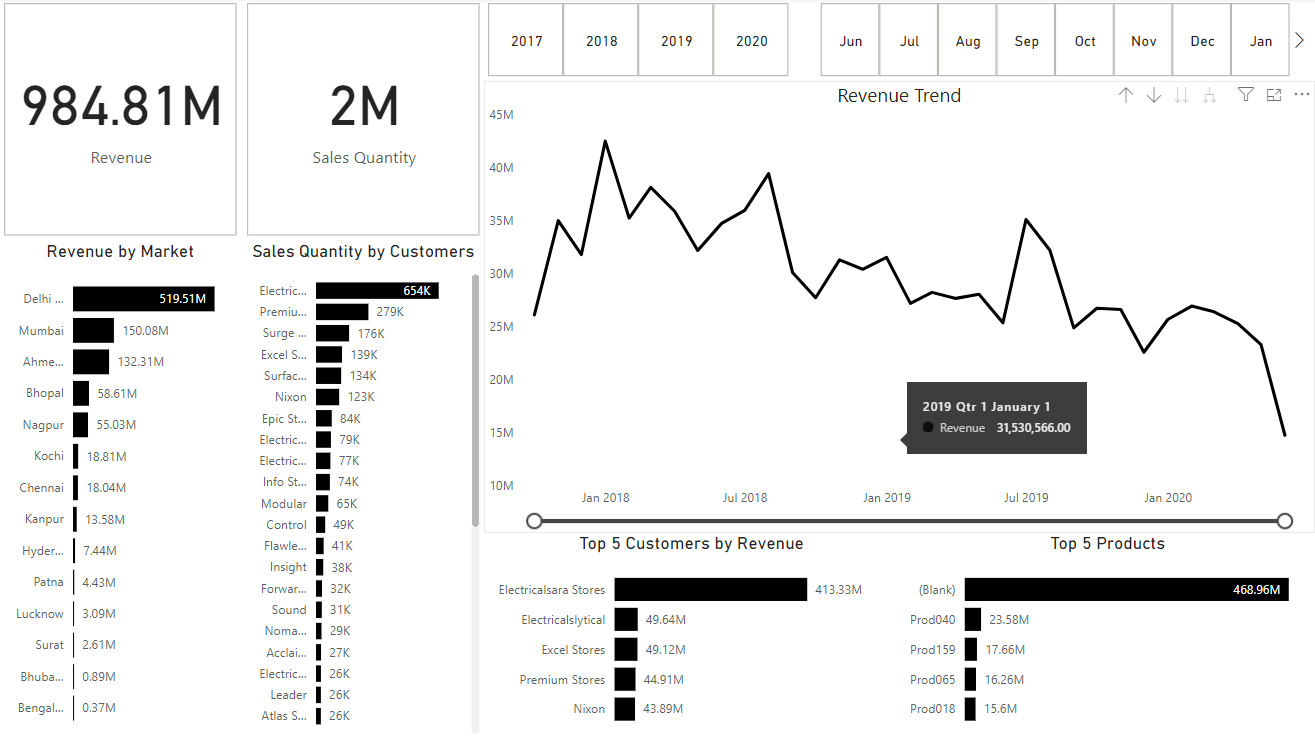

What the dashboard file says about the page in this screenshot:
{"tool":"powerbi","page":{"name":"Page 1","canvas":[1280,720],"ordinal":0},"visuals":[{"type":"cardVisual","fields":{"Data":["BaseMeasures.Revenue"]},"box":[0,0,236,236],"z":0},{"type":"barChart","title":"Revenue by Market","fields":{"Y":["BaseMeasures.Revenue"],"Category":["sales markets.markets_name"]},"box":[0,236,236,484],"z":1000},{"type":"cardVisual","fields":{"Data":["BaseMeasures.Sales Quantity"]},"box":[236,0,236,236],"z":2000},{"type":"barChart","title":"Sales Quantity by Customers","fields":{"Y":["BaseMeasures.Sales Quantity"],"Category":["sales customers.custmer_name"]},"box":[236,236,236,484],"z":3000},{"type":"advancedSlicerVisual","fields":{"Values":["sales date.year"]},"box":[471,0,303,81],"z":4000},{"type":"advancedSlicerVisual","fields":{"Values":["sales date.cy_date"]},"box":[774,0,506,81],"z":5000},{"type":"barChart","title":"Top 5 Customers by Revenue","fields":{"Y":["BaseMeasures.Revenue"],"Category":["sales customers.customer_name"]},"box":[472,520,404,200],"z":5001},{"type":"barChart","title":"Top 5 Products","fields":{"Y":["BaseMeasures.Revenue"],"Category":["sales products.product_code"]},"box":[876,520,404,200],"z":5002},{"type":"lineChart","title":"Revenue Trend","fields":{"Y":["BaseMeasures.Revenue"],"Category":["sales date.cy_date.Variation.Date Hierarchy.Year","sales date.cy_date.Variation.Date Hierarchy.Quarter","sales date.cy_date.Variation.Date Hierarchy.Month","sales date.cy_date.Variation.Date Hierarchy.Day"]},"box":[472,81,808,439],"z":5003}]}

Visuals, with their boxes in screenshot pixels (x1, y1, x2, y2), scaled from the page's 1280x720 canvas onto the 1315x738 screenshot:
cardVisual - BaseMeasures.Revenue: region(0, 0, 242, 242)
"Revenue by Market" barChart: region(0, 242, 242, 737)
cardVisual - BaseMeasures.Sales Quantity: region(242, 0, 485, 242)
"Sales Quantity by Customers" barChart: region(242, 242, 485, 737)
advancedSlicerVisual - sales date.year: region(484, 0, 795, 83)
advancedSlicerVisual - sales date.cy_date: region(795, 0, 1314, 83)
"Top 5 Customers by Revenue" barChart: region(485, 533, 900, 737)
"Top 5 Products" barChart: region(900, 533, 1314, 737)
"Revenue Trend" lineChart: region(485, 83, 1314, 533)
